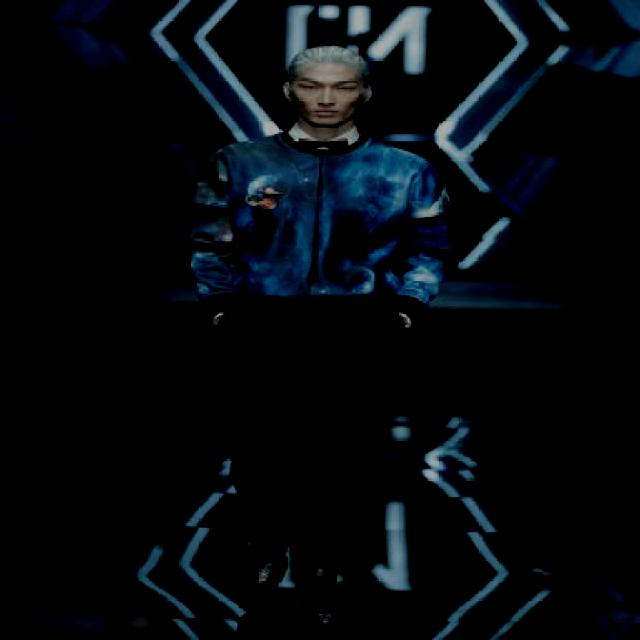Person: (211, 45, 427, 617)
